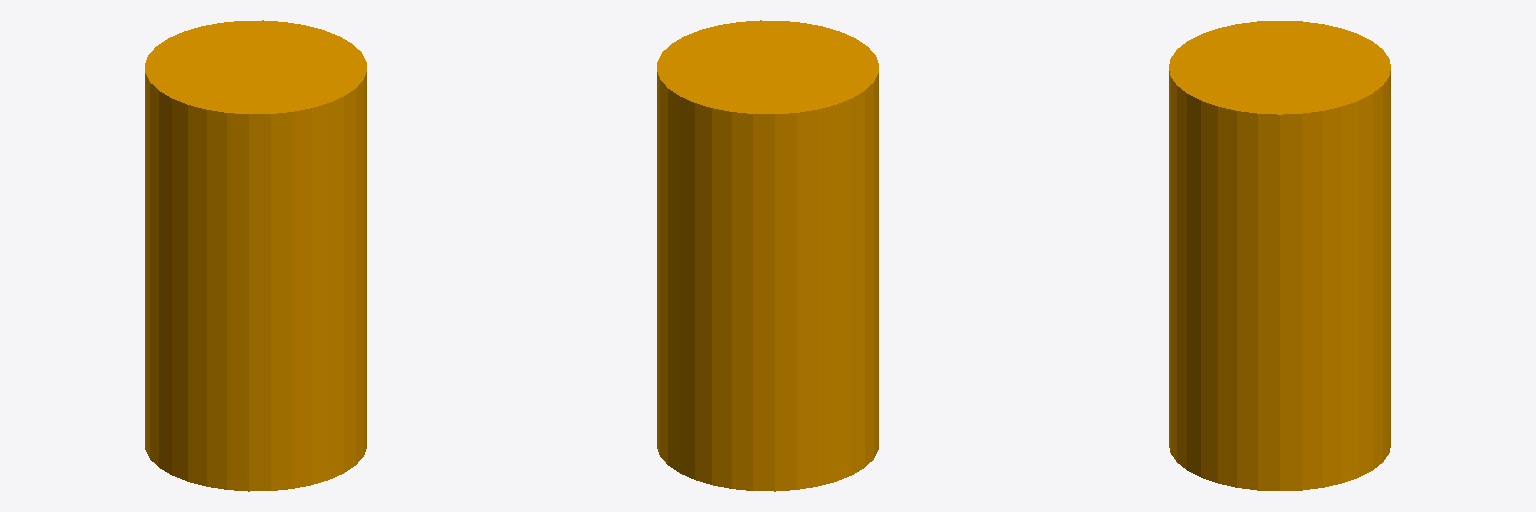
URDF robot description (cube_green):
<robot name="cube_green">
  <link name="link">
    <inertial>
      <origin xyz="0 0 0" />
      <mass value="0.1" />
      <inertia  ixx="0.0001985" ixy="0.0"  ixz="0.0"  iyy="0.0001985"  iyz="0.0"  izz="0.00007031" />
    </inertial>
    <visual>
      <origin xyz="0 0 0"/>
      <geometry>
        <cylinder radius="0.0375" length="0.14"/>
      </geometry>
    </visual>
    <collision>
      <origin xyz="0 0 0"/>
      <geometry>
        <cylinder radius="0.0375" length="0.14"/>
      </geometry>
    </collision>
  </link>
  <gazebo reference="link">
    <material>Gazebo/Green</material>
    <mu1>2.0</mu1>
    <mu2>2.0</mu2>
  </gazebo>
</robot>

--- Facts derived from the render (not from the file) ---
3 views of the same robot in one strip: view 1: azimuth 30°, elevation 25°; view 2: azimuth 150°, elevation 25°; view 3: azimuth 270°, elevation 25° (orthographic).
Robot: cube_green — 1 links, 0 joints (none); root link link; default pose: every joint at zero.
Visible links, largest first — view 1: link; view 2: link; view 3: link.
Boxes of the visible links, left/top/right/bottom form: link: left=145, top=20, right=366, bottom=491; link: left=657, top=20, right=878, bottom=491; link: left=1169, top=21, right=1390, bottom=490.
Bounding box of the posed robot: 0.075 × 0.075 × 0.14 m (x, y, z).
Geometry: primitives only (box / cylinder / sphere), no mesh files.